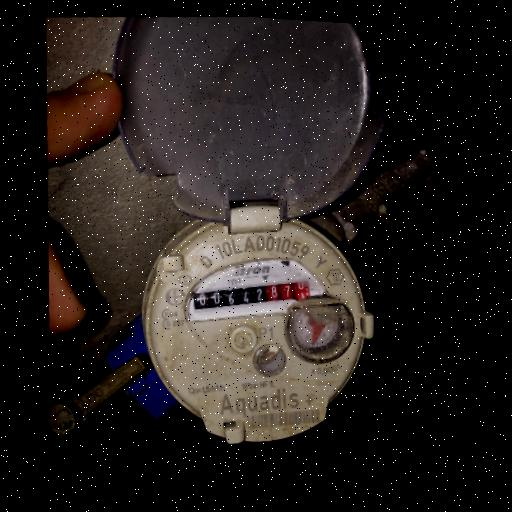0: (208, 289, 227, 309), (194, 291, 212, 310), (293, 280, 310, 299)
2: (252, 284, 270, 304)
4: (237, 286, 255, 306)
6: (223, 287, 241, 307)
7: (279, 281, 297, 300)
8: (266, 283, 284, 303)
border_water_meter_number: (189, 269, 313, 322)
